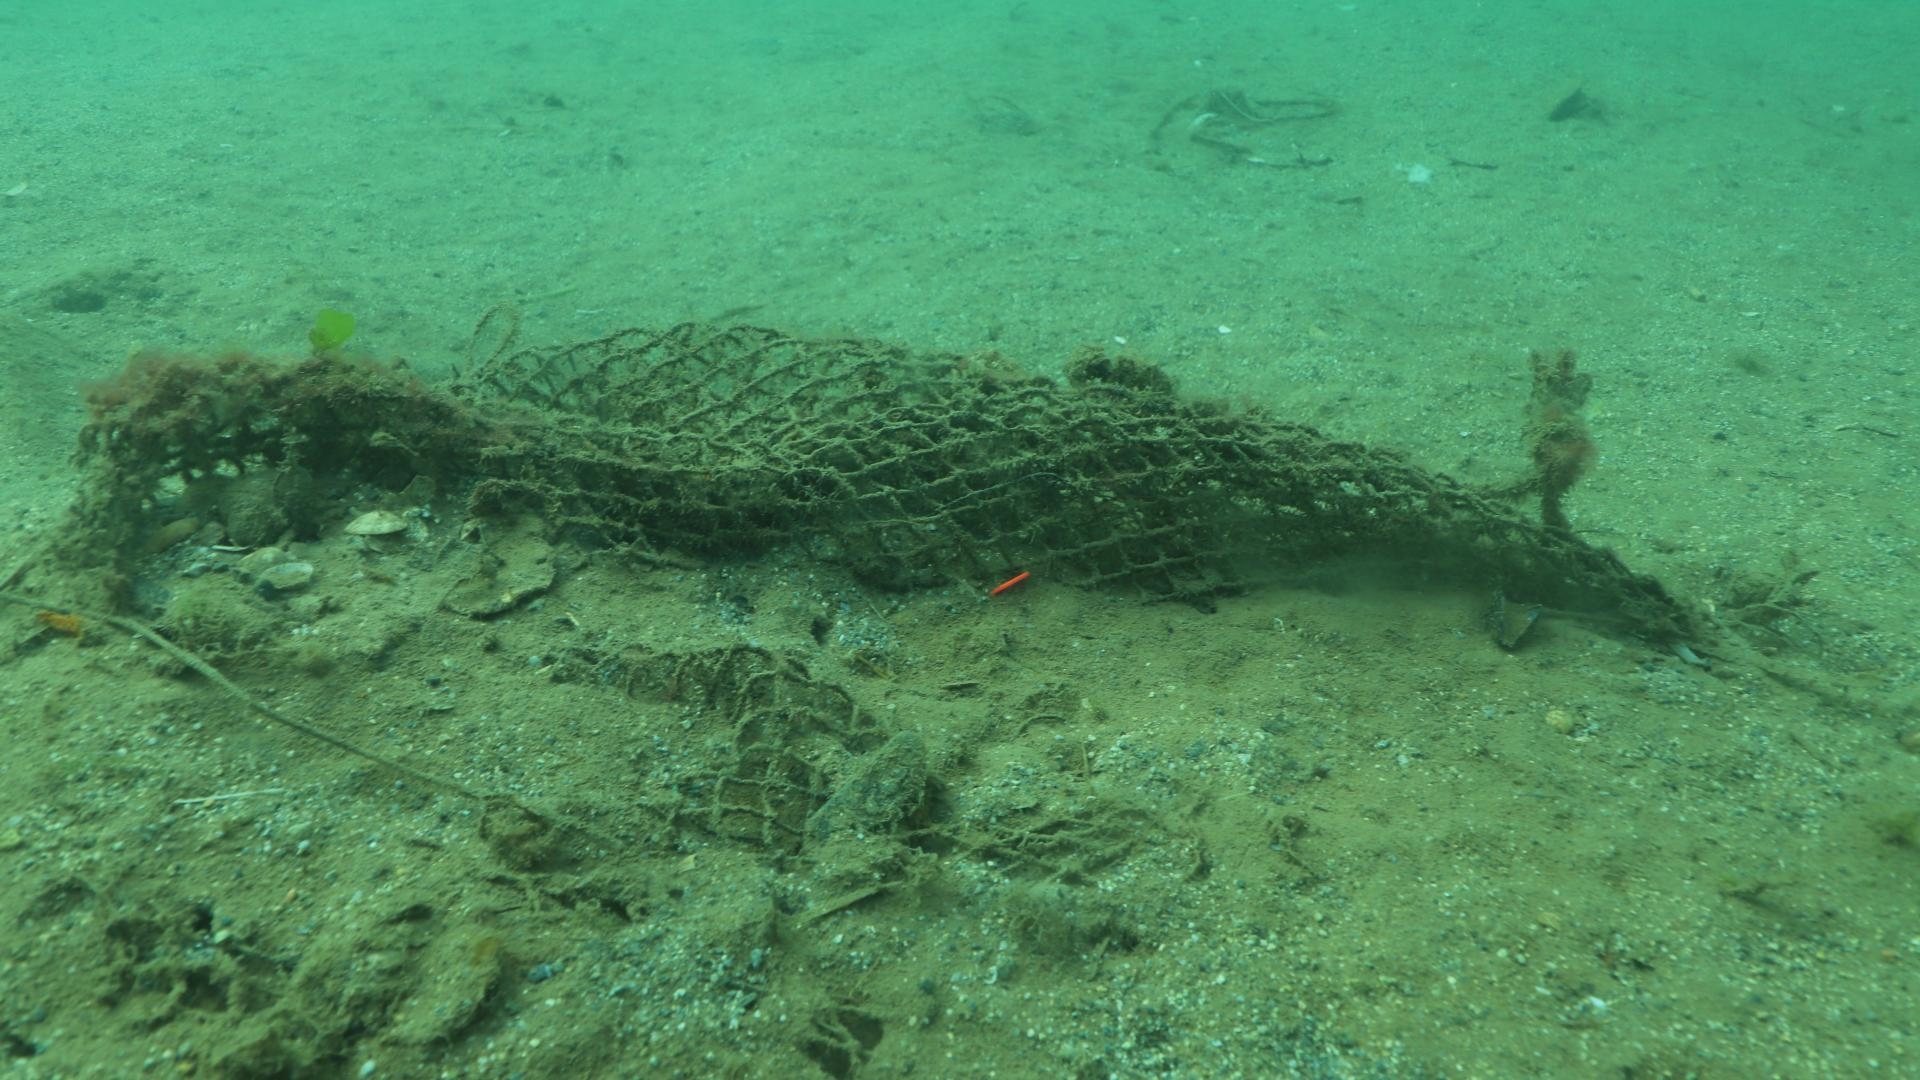fish net: (480, 301, 1518, 628), (568, 640, 1138, 877)
